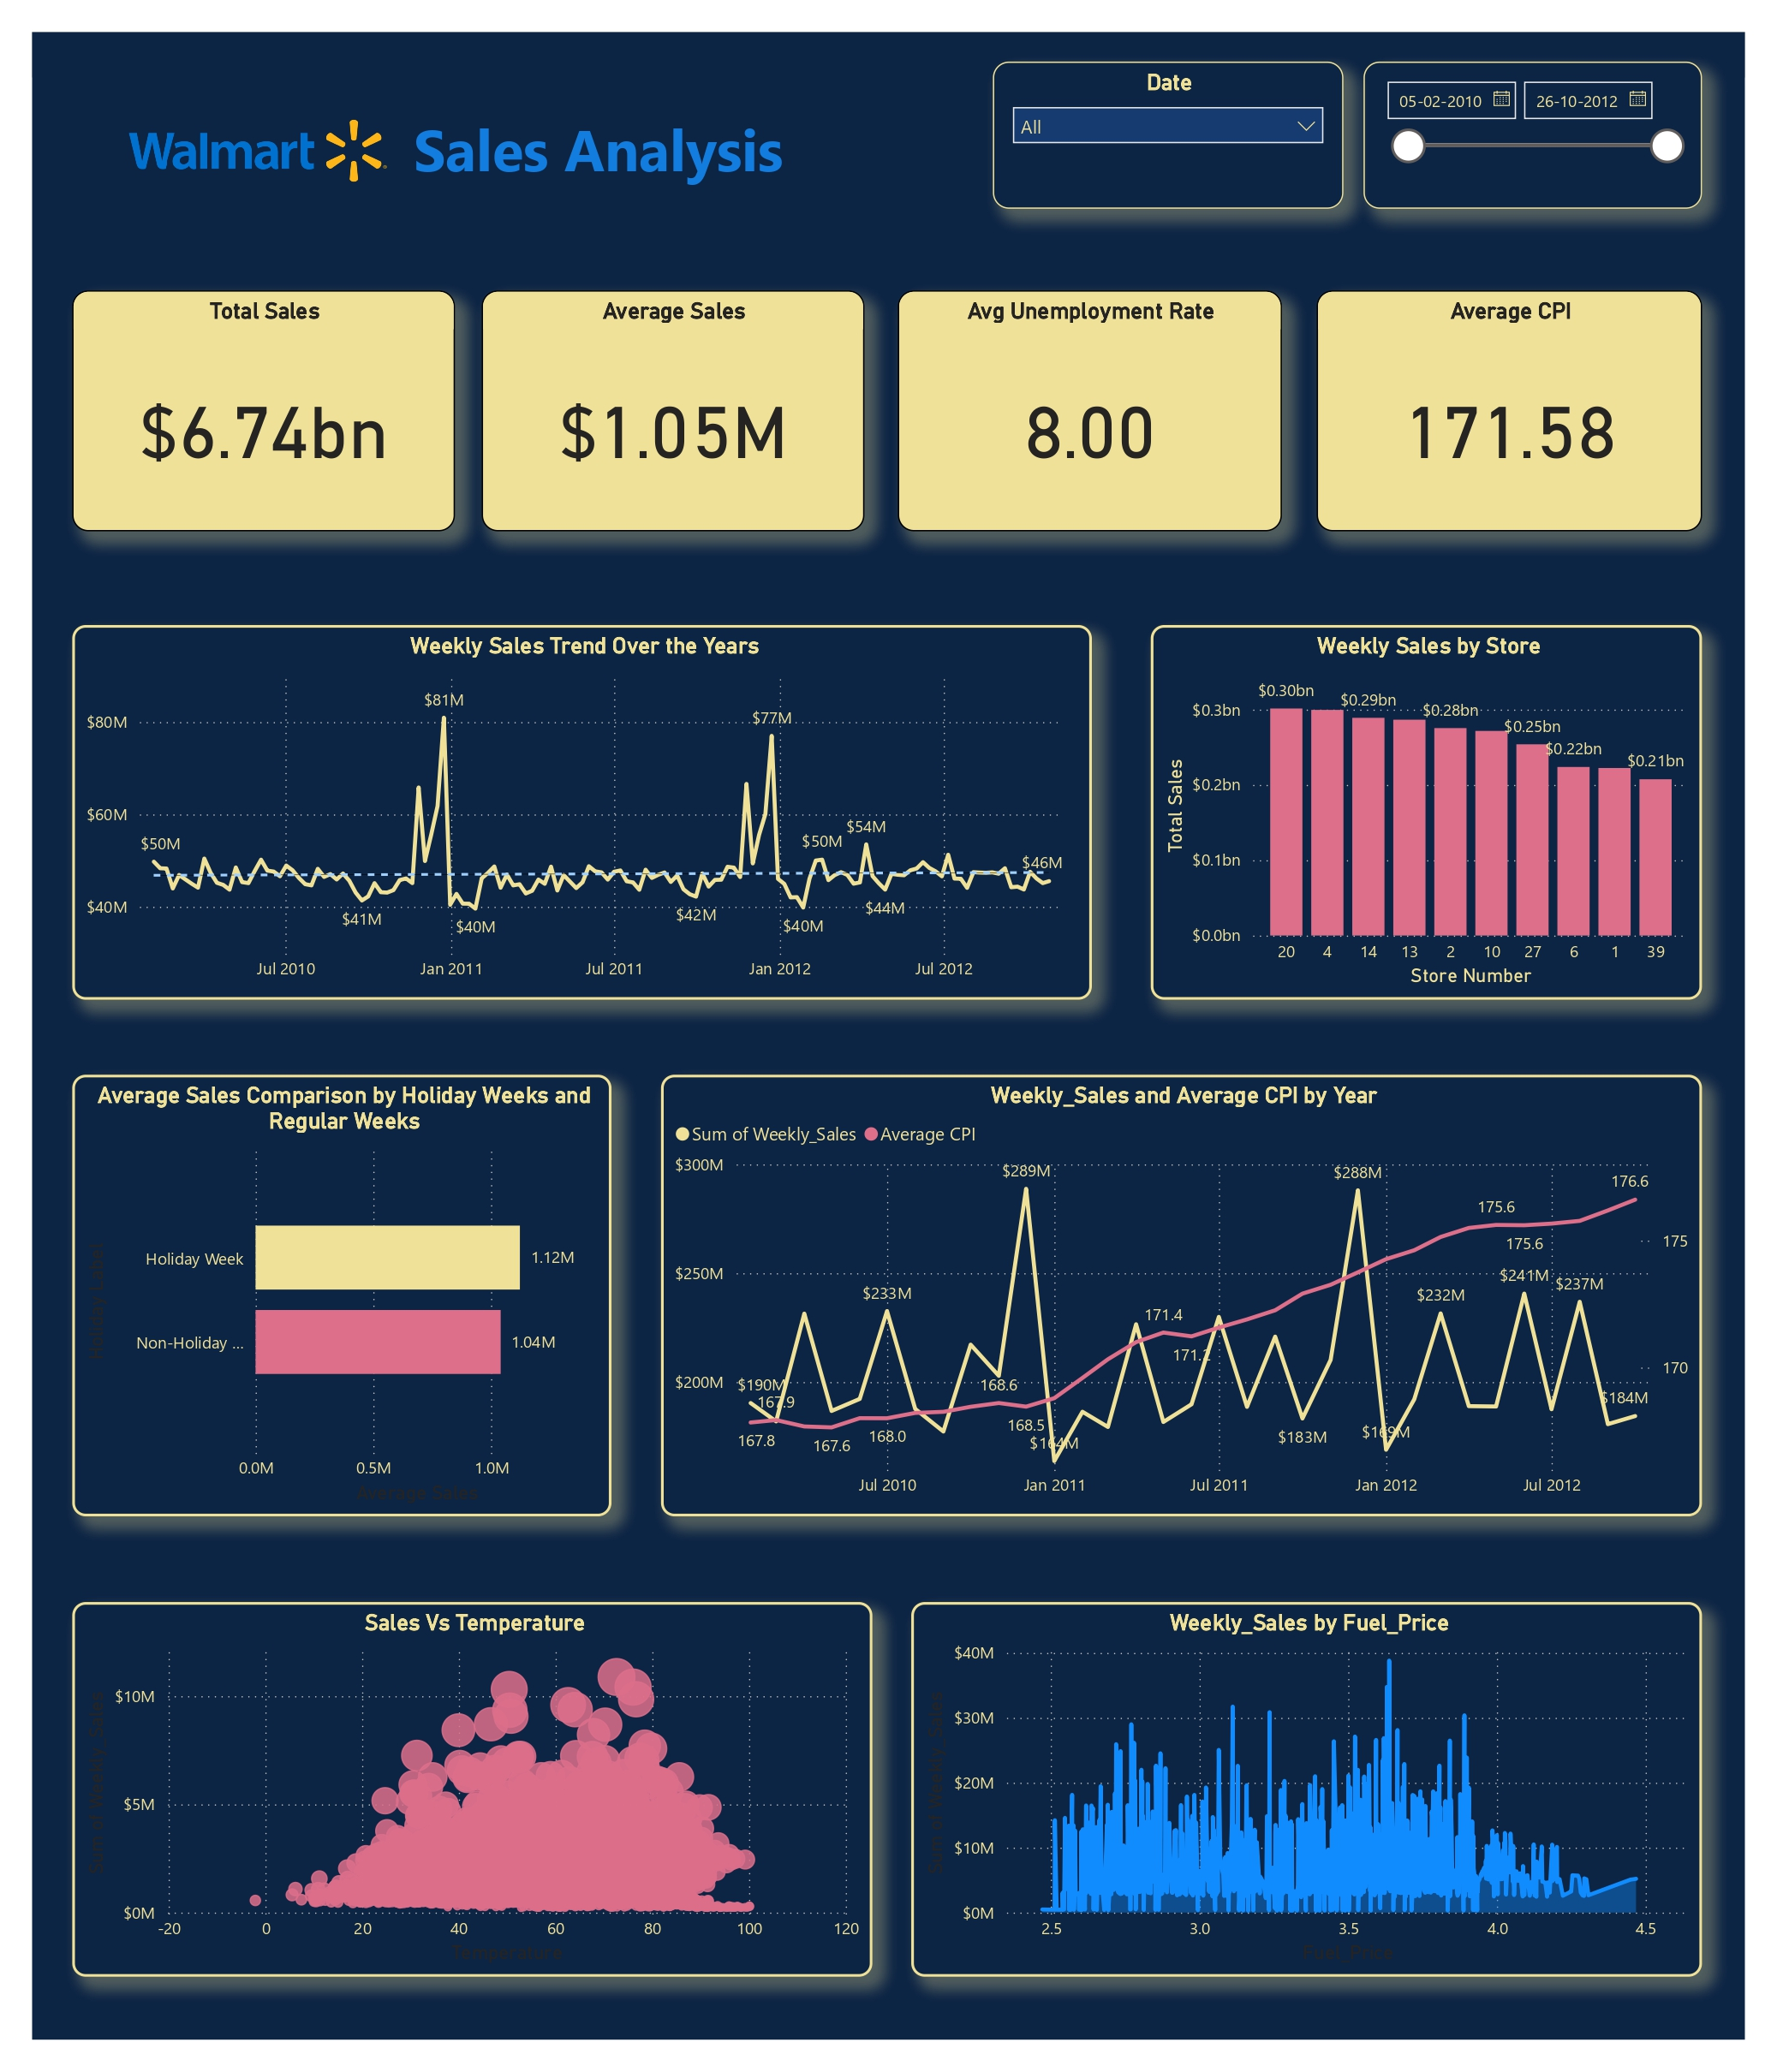

Layout of this report page (visuals, bound fields, positions):
{"tool":"powerbi","page":{"name":"Page 1","canvas":[1280,1500],"ordinal":0},"visuals":[{"type":"lineChart","title":"Weekly Sales Trend Over the Years","fields":{"Y":["Sum(Walmart (1).Weekly_Sales)"],"Category":["Walmart (1).Date"]},"box":[30,443.3,762,280],"z":0},{"type":"clusteredColumnChart","title":"Top 10 Store By Weekly Sales","fields":{"Category":["Walmart (1).Store"],"Y":["Sum(Walmart (1).Weekly_Sales)"]},"box":[836,443.3,412,280],"z":1000},{"type":"clusteredBarChart","title":"Average Sales Comparison by Holiday Weeks and Regular Weeks","fields":{"Y":["Walmart (1).Average Sales"],"Category":["Walmart (1).Holiday Label"]},"box":[30,779.3,403.3,330],"z":2000},{"type":"scatterChart","title":"Sales Vs Temperature","fields":{"X":["Walmart (1).Temperature"],"Size":["Sum(Walmart (1).Weekly_Sales)"],"Y":["Sum(Walmart (1).Weekly_Sales)"]},"box":[30,1172.7,598.3,280],"z":3000},{"type":"areaChart","title":"Weekly_Sales by Fuel_Price","fields":{"Y":["Sum(Walmart (1).Weekly_Sales)"],"Category":["Walmart (1).Fuel_Price"]},"box":[656.7,1172.7,591.7,280],"z":4000},{"type":"lineChart","title":"Weekly_Sales and Average CPI by Year","fields":{"Y":["Sum(Walmart (1).Weekly_Sales)"],"Category":["Walmart (1).Date.Variation.Date Hierarchy.Year","Walmart (1).Date.Variation.Date Hierarchy.Quarter","Walmart (1).Date.Variation.Date Hierarchy.Month","Walmart (1).Date.Variation.Date Hierarchy.Day"],"Y2":["Walmart (1).Average CPI"]},"box":[470,779.3,778.3,330],"z":5000},{"type":"slicer","fields":{"Values":["Walmart (1).Date"]},"box":[995,21.7,253.3,110],"z":6000},{"type":"slicer","title":"Date","fields":{"Values":["Walmart (1).Store"]},"box":[718.3,21.7,261.7,110],"z":7000},{"type":"card","title":"Total Sales","fields":{"Values":["Sum(Walmart (1).Weekly_Sales)"]},"box":[30,193.3,286,180],"z":8000},{"type":"card","title":"Average Sales","fields":{"Values":["Avg(Walmart (1).Weekly_Sales)"]},"box":[336.4,193.3,286,180],"z":9000},{"type":"card","title":"Avg Unemployment Rate","fields":{"Values":["Walmart (1).Average Unemp"]},"box":[646.6,193.3,287.9,180],"z":10000},{"type":"card","title":"Average CPI","fields":{"Values":["Walmart (1).Average CPI"]},"box":[960.5,193.3,287.9,180],"z":11000},{"type":"image","box":[0,0,336.7,176.7],"z":12000},{"type":"textbox","box":[280,53.3,425,78.3],"z":13000}]}

Visuals, with their boxes in screenshot pixels (x1, y1, x2, y2):
"Weekly Sales Trend Over the Years" lineChart: (72, 626, 1092, 1000)
"Top 10 Store By Weekly Sales" clusteredColumnChart: (1151, 626, 1702, 1000)
"Average Sales Comparison by Holiday Weeks and Regular Weeks" clusteredBarChart: (72, 1075, 612, 1517)
"Sales Vs Temperature" scatterChart: (72, 1602, 873, 1977)
"Weekly_Sales by Fuel_Price" areaChart: (911, 1602, 1702, 1977)
"Weekly_Sales and Average CPI by Year" lineChart: (661, 1075, 1702, 1517)
slicer - Walmart (1).Date: (1363, 61, 1702, 208)
"Date" slicer: (993, 61, 1344, 208)
"Total Sales" card: (72, 291, 455, 532)
"Average Sales" card: (482, 291, 865, 532)
"Avg Unemployment Rate" card: (897, 291, 1283, 532)
"Average CPI" card: (1317, 291, 1702, 532)
image: (33, 33, 483, 269)
textbox: (407, 104, 975, 208)
